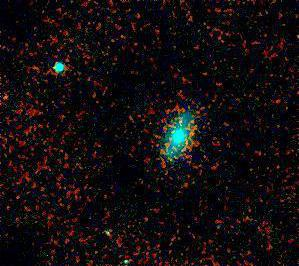star: (92, 220, 122, 250)
